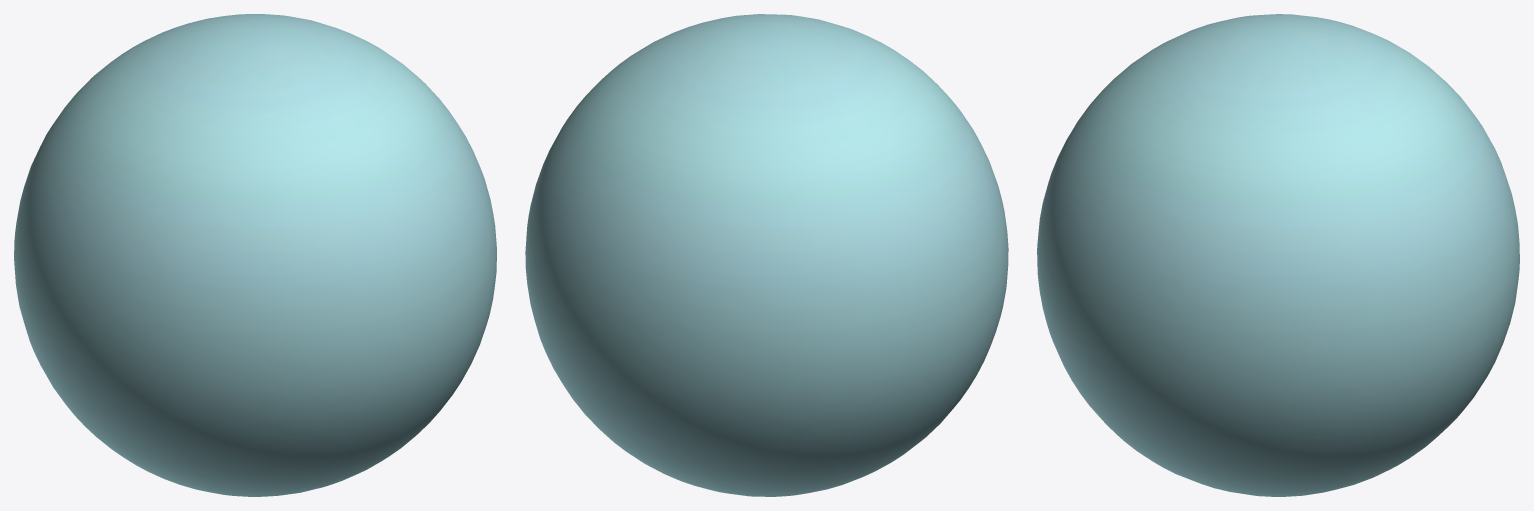
The model's file is uranus.glb.
3 renders of one model, left to right at view 1: azimuth 30°, elevation 25°; view 2: azimuth 150°, elevation 25°; view 3: azimuth 270°, elevation 25°, orthographic.
Visible parts, largest first — view 1: Object_3; view 2: Object_3; view 3: Object_3.
Boxes of the visible parts, <box> form: Object_3: <box>14,14,496,496</box>; Object_3: <box>525,14,1008,496</box>; Object_3: <box>1037,14,1519,496</box>.
Size of the model in its own units: 2 by 2 by 2.
Materials: 1 (1 with a texture image).
